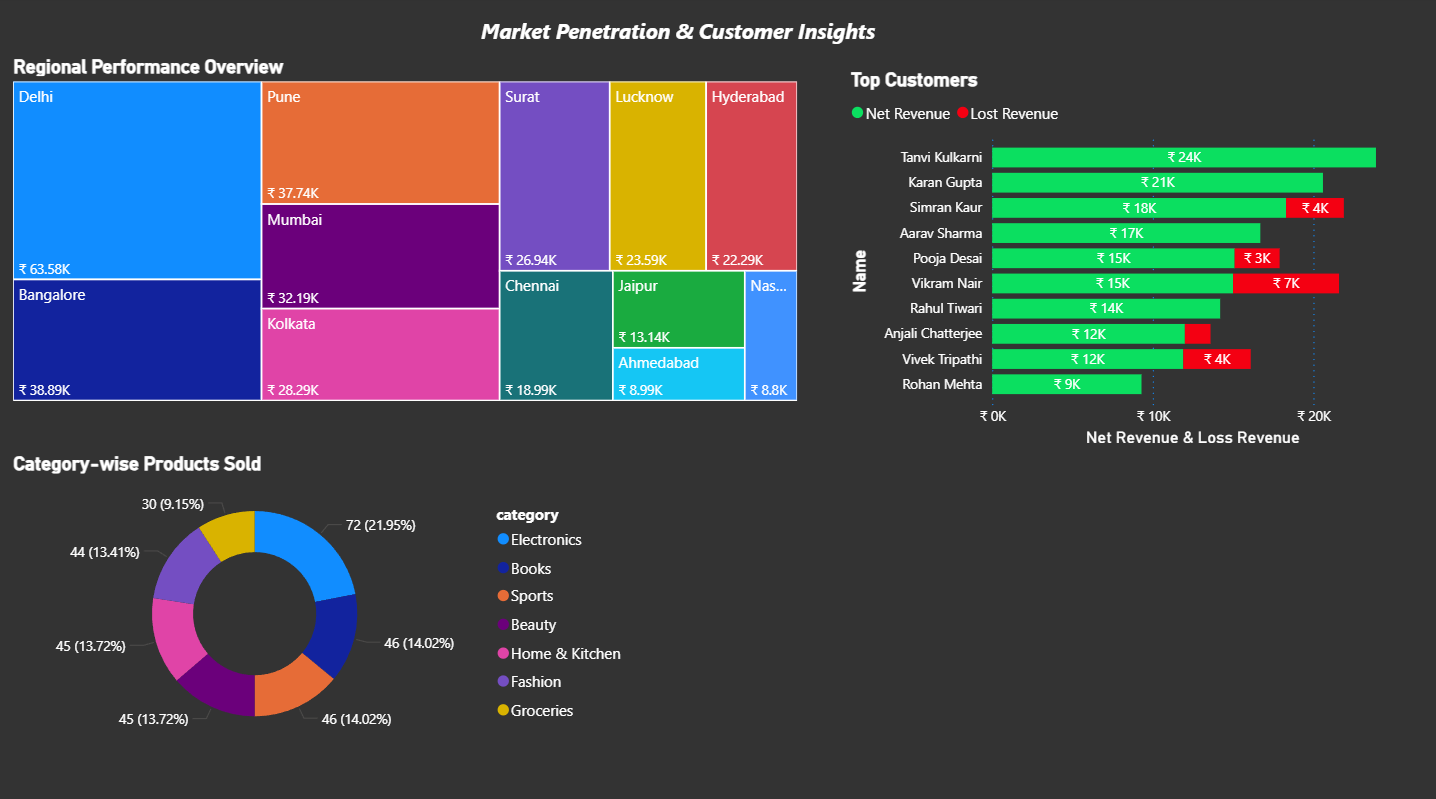

Layout of this report page (visuals, bound fields, positions):
{"tool":"powerbi","page":{"name":"Customer & Order Analysis","canvas":[1280,720],"ordinal":2},"visuals":[{"type":"treemap","title":"Regional Performance Overview","fields":{"Group":["customers.city"],"Values":["_Calculation.Total GMV"]},"box":[8.1,55.8,707,312.8],"z":0},{"type":"textbox","box":[423.3,16.3,582.6,59.3],"z":1000},{"type":"donutChart","title":"Category-wise Products Sold","fields":{"Category":["products.category"],"Y":["Sum(order_items.quantity)"]},"box":[8.1,409.3,559.3,268.6],"z":2000},{"type":"barChart","title":"Top Customers","fields":{"Category":["customers.name"],"Y":["_Calculation.Net Revenue","_Calculation.Lost Revenue"]},"box":[752,67.2,507.7,341.7],"z":3000}]}

Visuals, with their boxes in screenshot pixels (x1, y1, x2, y2), scaled from the page's 1280x720 canvas onto the 1436x799 screenshot:
"Regional Performance Overview" treemap: bbox(9, 62, 802, 409)
textbox: bbox(475, 18, 1128, 84)
"Category-wise Products Sold" donutChart: bbox(9, 454, 637, 752)
"Top Customers" barChart: bbox(844, 75, 1413, 454)
